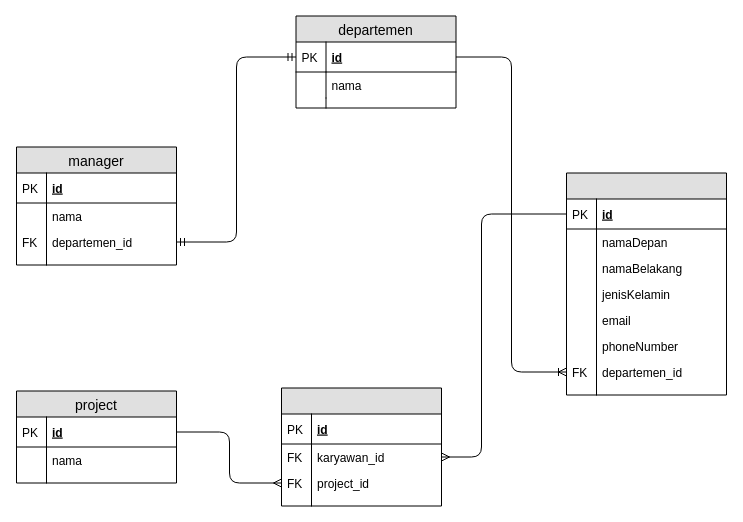
This 743x522 diagram has some shape labels left out. The box of each missing label's shape, as (x1, y1, x2, y2) in pixels:
karyawan: (566, 172, 726, 395)
karyawan_project: (280, 387, 442, 506)
